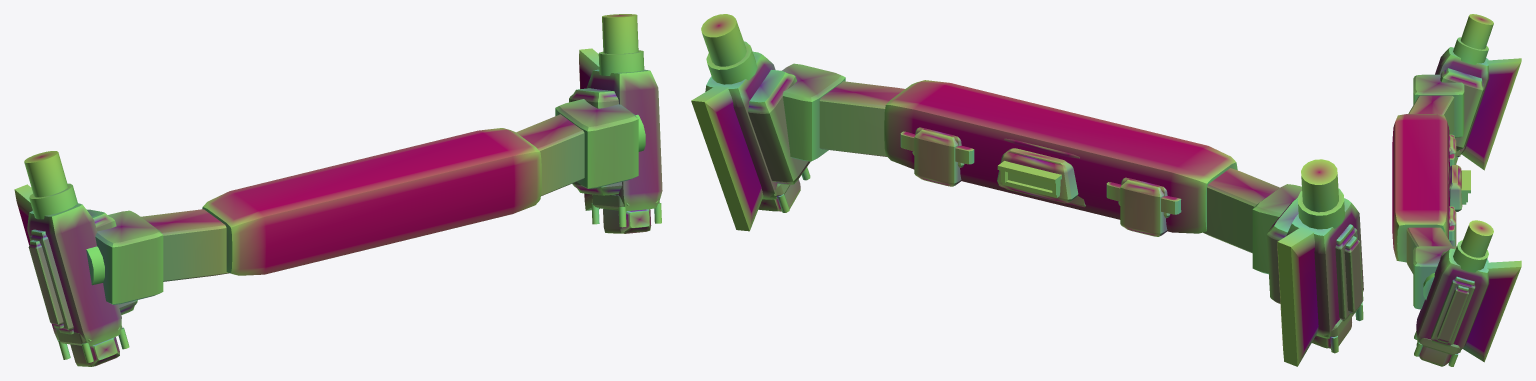
File: llm_gen_waist_ordnance_118_4283b6.glb
3 renders of one model, left to right at view 1: azimuth 30°, elevation 25°; view 2: azimuth 150°, elevation 25°; view 3: azimuth 270°, elevation 25°, orthographic. The views are drawn at different scales.
Visible parts, largest first — view 1: adapter_waist_rear_yoke_dark, holster_sheath_housing_1_wing_white_l, adapter_waist_swivel_l, adapter_waist_swivel_r, holster_sheath_housing_1_wing_white_r, adapter_waist_arm_l, adapter_waist_arm_r, holster_guard_gold_3_titanium_silver_r, holster_guard_gold_3_titanium_silver_l, saber_hilt_pommel_5_titanium_silver_l, saber_hilt_pommel_5_titanium_silver_r, charge_led_bar_7_optic_cyan_l (+8 smaller); view 2: adapter_waist_rear_yoke_dark, holster_wing_blue_2_titanium_silver_r, adapter_waist_arm_r, holster_wing_blue_2_titanium_silver_l, holster_adapter_cradle_0_adapter_dark_r, adapter_waist_arm_l, adapter_waist_swivel_r, holster_sheath_housing_1_wing_white_l, holster_sheath_housing_1_wing_white_r, adapter_waist_center_latch_gold, adapter_waist_mount_pod_dark_8_adapter_dark_r, adapter_waist_mount_pod_dark_8_adapter_dark_l (+13 smaller); view 3: adapter_waist_rear_yoke_dark, holster_sheath_housing_1_wing_white_r, holster_wing_blue_2_titanium_silver_l, holster_wing_blue_2_titanium_silver_r, adapter_waist_swivel_l, holster_adapter_cradle_0_adapter_dark_l, adapter_waist_swivel_r, holster_sheath_housing_1_wing_white_l, adapter_waist_arm_r, adapter_waist_arm_l, holster_guard_gold_3_titanium_silver_r, saber_hilt_pommel_5_titanium_silver_r (+10 smaller).
Part boxes in pixels (x1,y1,x2,y2): adapter_waist_rear_yoke_dark: (202,128,541,275); holster_sheath_housing_1_wing_white_l: (27,203,121,346); adapter_waist_swivel_l: (95,210,163,304); adapter_waist_swivel_r: (555,99,638,188); holster_sheath_housing_1_wing_white_r: (586,69,662,210); adapter_waist_arm_l: (141,209,229,281); adapter_waist_arm_r: (516,114,584,195); holster_guard_gold_3_titanium_silver_r: (591,194,661,233); holster_guard_gold_3_titanium_silver_l: (56,326,129,366); saber_hilt_pommel_5_titanium_silver_l: (24,151,67,197); saber_hilt_pommel_5_titanium_silver_r: (602,14,638,53); charge_led_bar_7_optic_cyan_l: (28,240,63,328); adapter_waist_rear_yoke_dark: (884,80,1237,233); holster_wing_blue_2_titanium_silver_r: (691,86,763,231); adapter_waist_arm_r: (819,81,904,156); holster_wing_blue_2_titanium_silver_l: (1277,227,1318,366); holster_adapter_cradle_0_adapter_dark_r: (748,69,810,184); adapter_waist_arm_l: (1203,168,1279,253); adapter_waist_swivel_r: (782,63,845,161); holster_sheath_housing_1_wing_white_l: (1286,198,1363,338); holster_sheath_housing_1_wing_white_r: (705,51,777,199); adapter_waist_center_latch_gold: (997,138,1085,207); adapter_waist_mount_pod_dark_8_adapter_dark_r: (914,129,961,186); adapter_waist_mount_pod_dark_8_adapter_dark_l: (1120,179,1167,236); adapter_waist_rear_yoke_dark: (1392,114,1449,262); holster_sheath_housing_1_wing_white_r: (1416,248,1489,350); holster_wing_blue_2_titanium_silver_l: (1461,58,1521,170); holster_wing_blue_2_titanium_silver_r: (1462,260,1521,362); adapter_waist_swivel_l: (1413,74,1464,137); holster_adapter_cradle_0_adapter_dark_l: (1440,68,1484,151); adapter_waist_swivel_r: (1413,246,1456,309); holster_sheath_housing_1_wing_white_l: (1435,47,1489,154); adapter_waist_arm_r: (1406,227,1451,273); adapter_waist_arm_l: (1408,95,1454,134); holster_guard_gold_3_titanium_silver_r: (1414,331,1460,366); saber_hilt_pommel_5_titanium_silver_r: (1460,220,1493,257).
Size of the model in its own units: 66.56 by 20.19 by 16.16.
